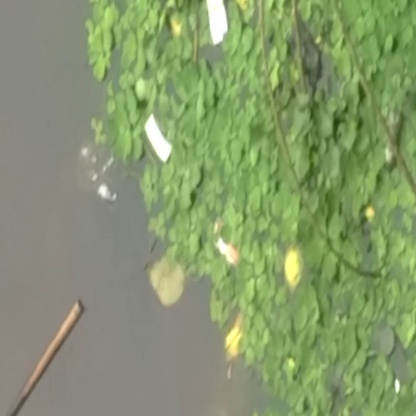branch: (1, 296, 91, 416)
